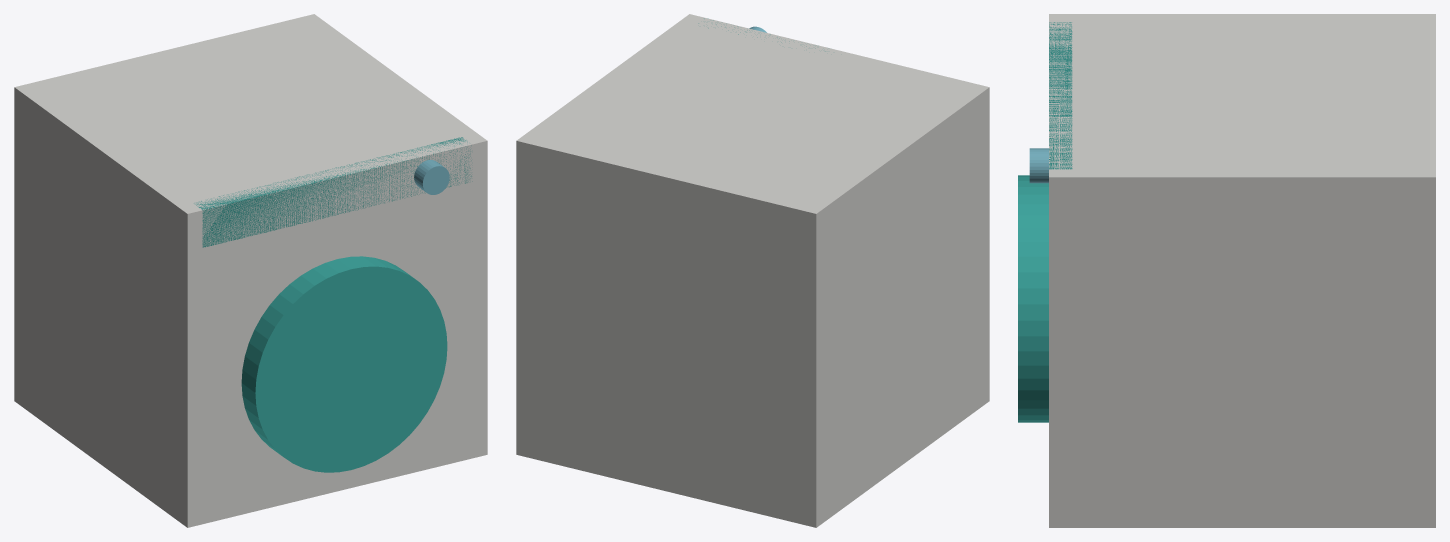
Rendered from lavadora.glb.
The picture shows the model from 3 angles, left to right: view 1: azimuth 30°, elevation 25°; view 2: azimuth 150°, elevation 25°; view 3: azimuth 270°, elevation 25°; orthographic projection. The views are drawn at different scales.
Parts seen in each view (by area): view 1: geometry_0, geometry_3, geometry_1, geometry_2; view 2: geometry_0; view 3: geometry_0, geometry_3, geometry_1, geometry_2.
Boxes of the visible parts, <box> form: geometry_0: <box>14,14,487,527</box>; geometry_3: <box>241,256,447,472</box>; geometry_1: <box>194,137,472,247</box>; geometry_2: <box>414,159,449,194</box>; geometry_0: <box>516,14,989,527</box>; geometry_0: <box>1049,14,1435,527</box>; geometry_3: <box>1018,175,1048,422</box>; geometry_1: <box>1049,22,1072,169</box>; geometry_2: <box>1029,148,1048,183</box>.
Bounding box in the file's own units: 1 × 1 × 1.08.
